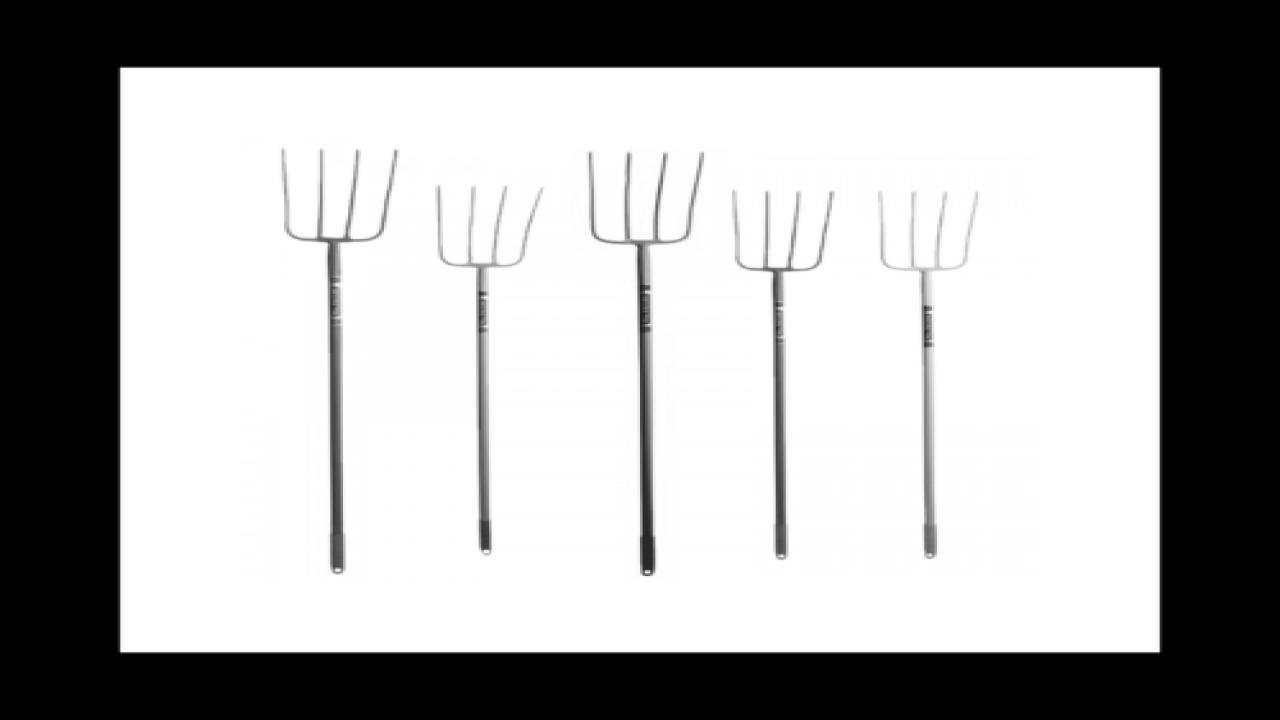fork: (584, 150, 704, 574), (279, 147, 397, 573), (432, 184, 542, 554), (727, 189, 835, 558), (875, 189, 978, 557)
